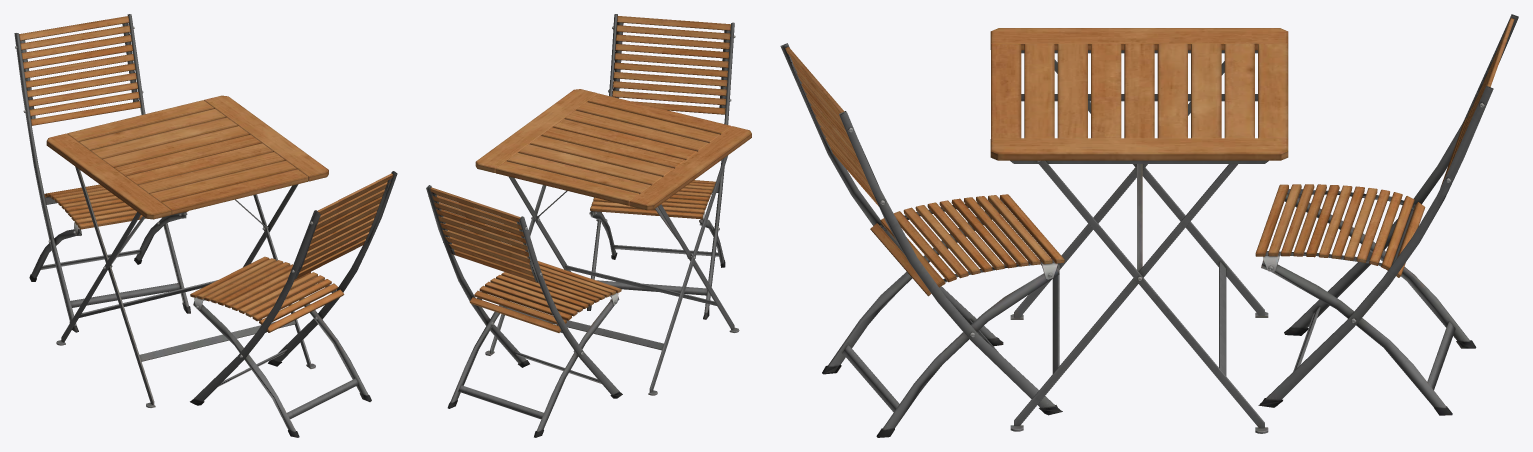
The model's file is terrasse_cafe_lod0.glb.
3 renders of one model, left to right at view 1: azimuth 30°, elevation 25°; view 2: azimuth 150°, elevation 25°; view 3: azimuth 270°, elevation 25°, orthographic. The views are drawn at different scales.
Parts seen in each view (by area): view 1: outdoor_table_chair_set_01_chair_01, outdoor_table_chair_set_01_table; view 2: outdoor_table_chair_set_01_chair_01, outdoor_table_chair_set_01_table; view 3: outdoor_table_chair_set_01_table, outdoor_table_chair_set_01_chair_01.
Boxes of the visible parts, left/top/right/bottom form: outdoor_table_chair_set_01_chair_01: left=14, top=14, right=397, bottom=437; outdoor_table_chair_set_01_table: left=46, top=95, right=328, bottom=407; outdoor_table_chair_set_01_chair_01: left=426, top=14, right=735, bottom=437; outdoor_table_chair_set_01_table: left=475, top=89, right=751, bottom=395; outdoor_table_chair_set_01_table: left=990, top=28, right=1288, bottom=433; outdoor_table_chair_set_01_chair_01: left=780, top=14, right=1518, bottom=437.
Size of the model in its own units: 0.7417 by 0.8578 by 1.72.
2 materials, 2 textured.
